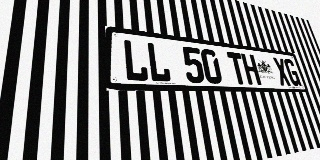0: (200, 48, 223, 84)
5: (182, 46, 206, 83)
G: (283, 58, 302, 86)
H: (241, 53, 262, 85)
L: (122, 39, 149, 82), (146, 42, 172, 82)
T: (226, 52, 248, 85)
X: (272, 57, 292, 86)
